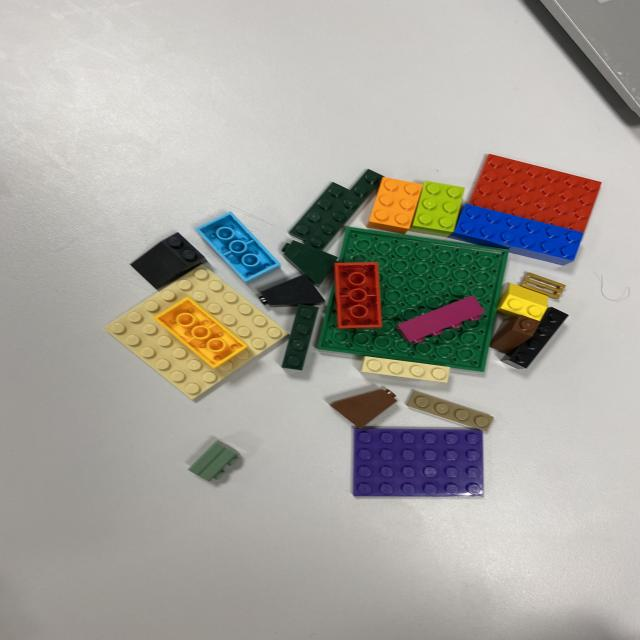C4x2x1: (155, 299, 251, 369), (197, 211, 280, 282), (336, 262, 383, 327)
